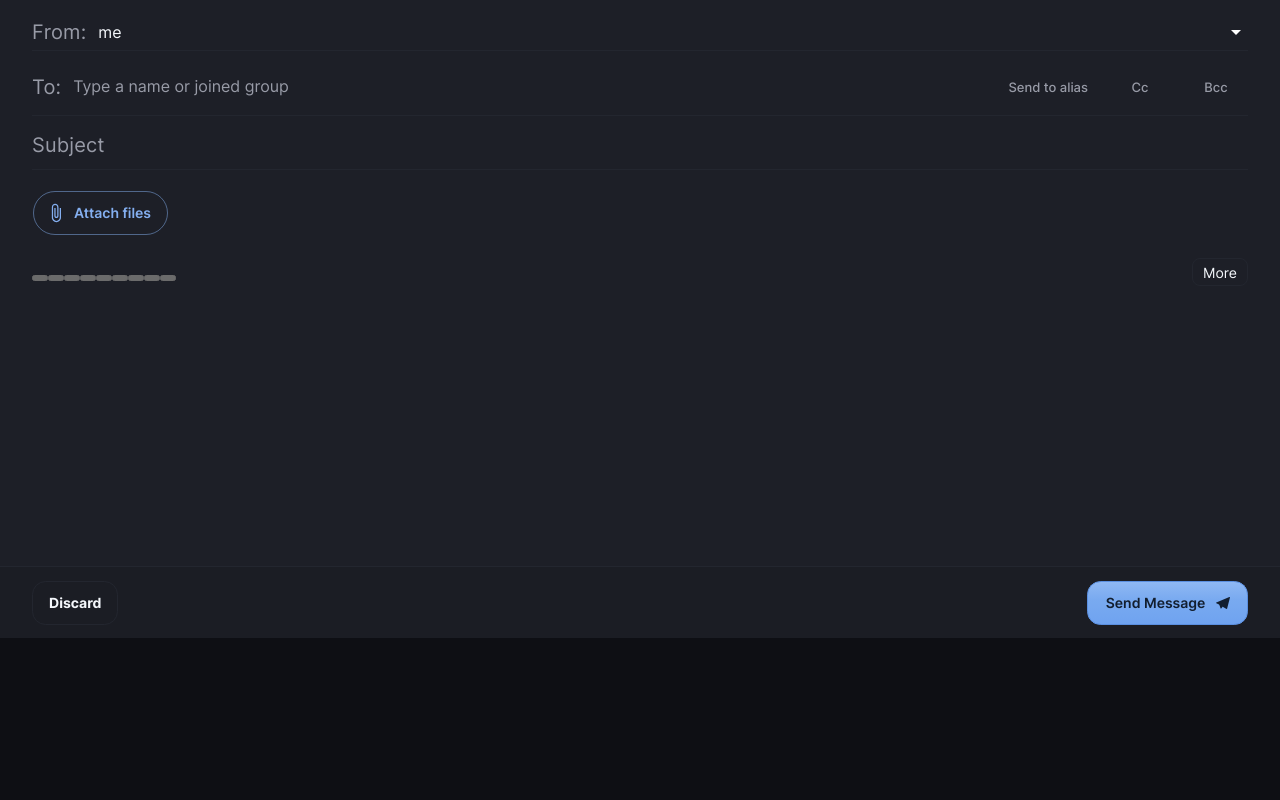
Test: NewMessage and joined groups › offers a joined group as a target and takes its name for the group
The image size is (1280, 800).
Type "Build" into the dropdown with placeholder "Type a name or joined group" at (531, 87), box x1=73 y1=71 x2=988 y2=102
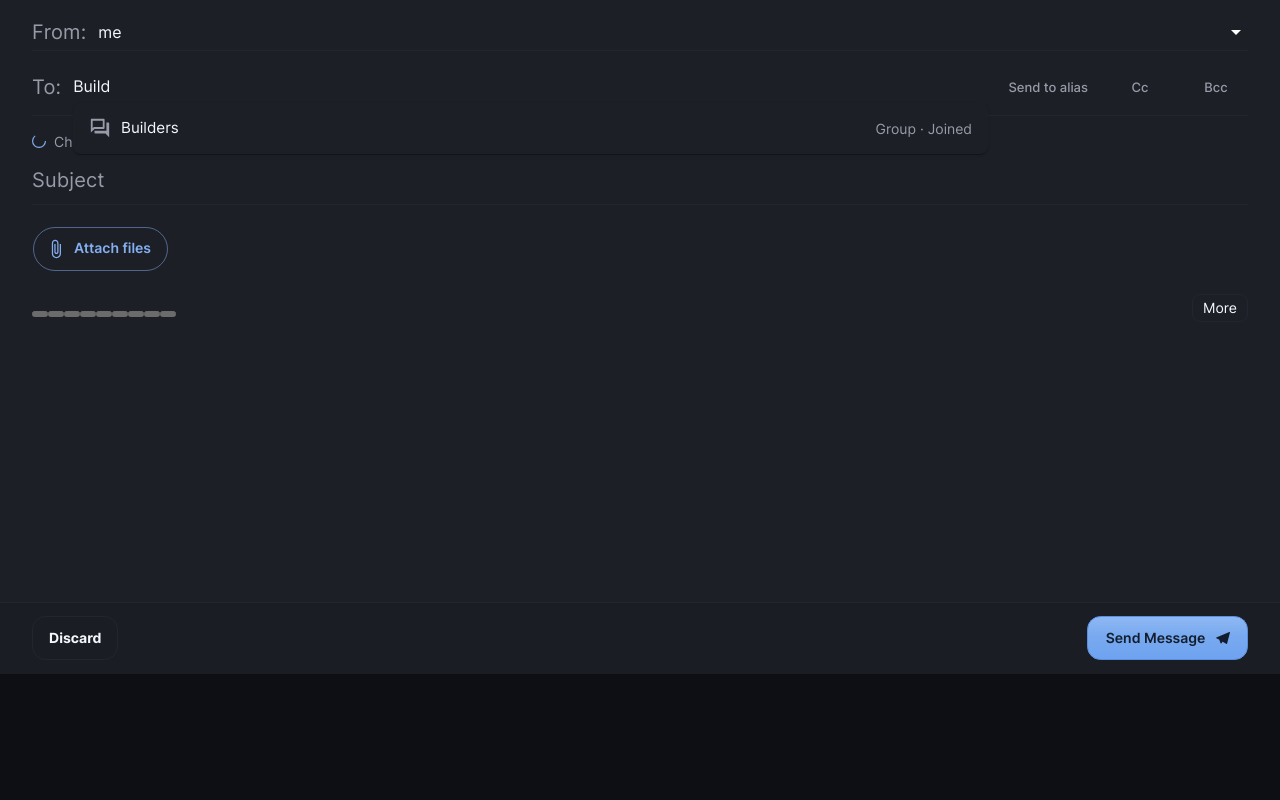
expect the option "Builders Group · Joined" is shown: met, box x1=73 y1=111 x2=988 y2=146
Replace the text in the dropdown with placeholder "Type a name or joined group" with "Builders" at (516, 87), box x1=73 y1=71 x2=958 y2=102
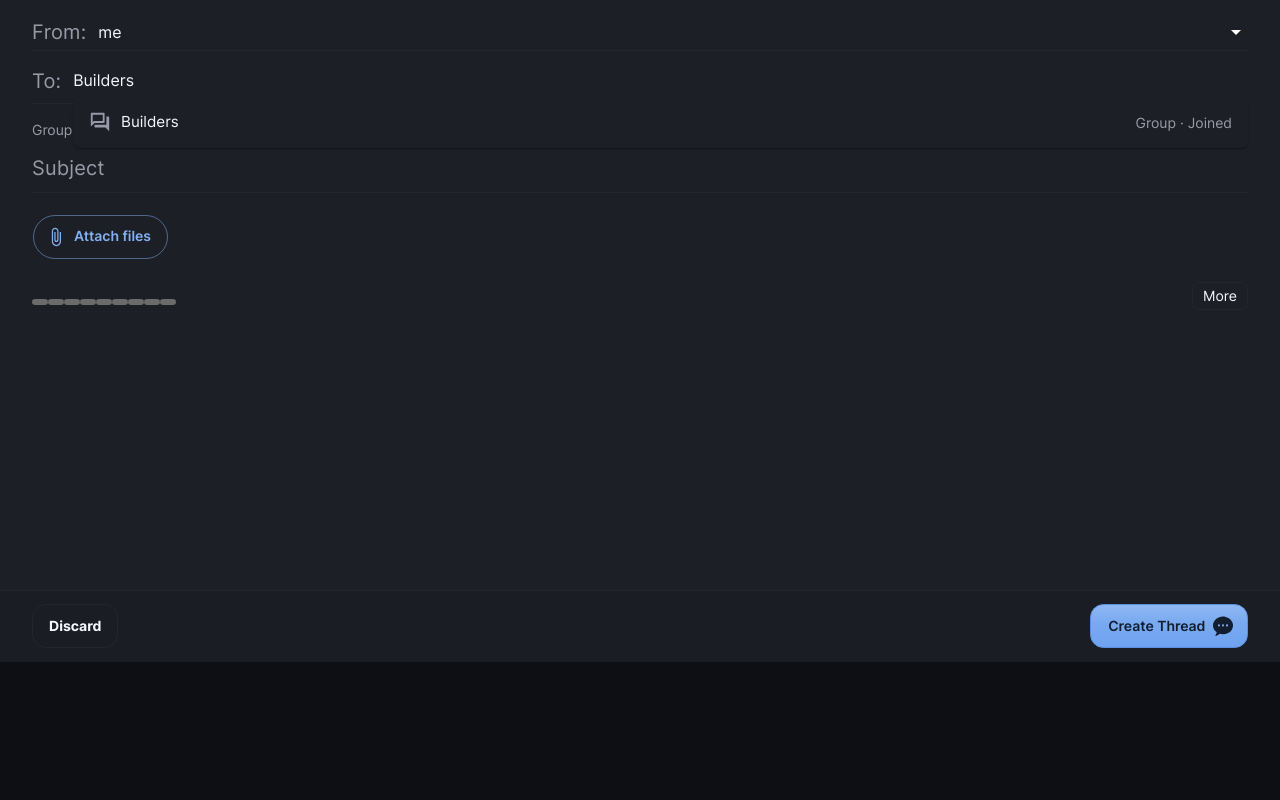
expect the text "Group selected: this will publish a new thread" is shown: met, box x1=32 y1=121 x2=540 y2=138
